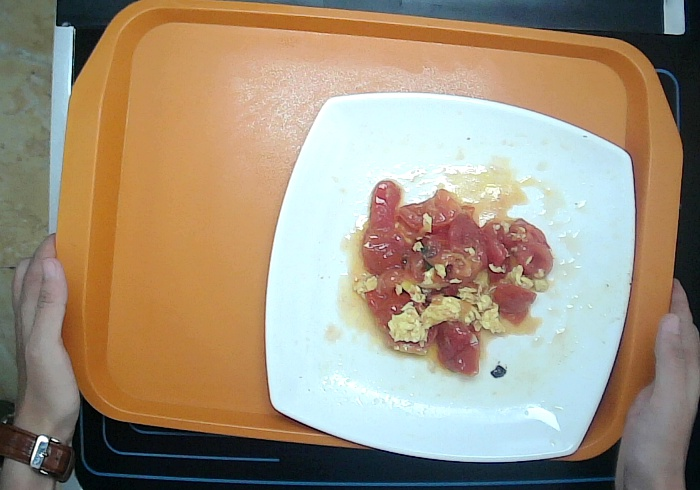ZNLD-Bai_Fang_Pan: (261, 85, 641, 470)
